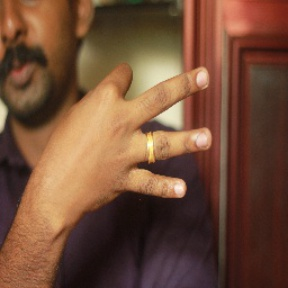K: (35, 65, 218, 204)
